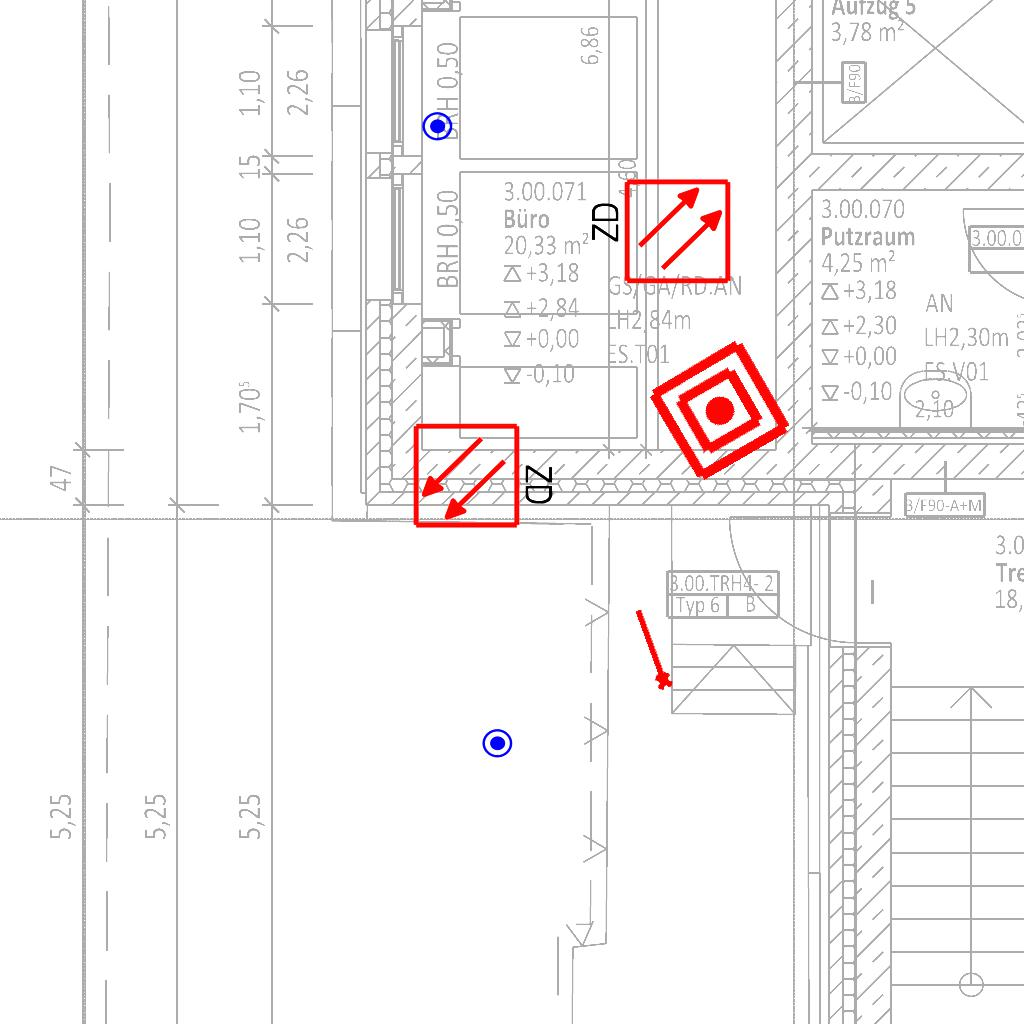ASR_Ansaugoeffnung: (625, 604, 677, 695)
NAM-Nichtautomatischer_Melder: (642, 333, 797, 488)
Taster: (481, 728, 514, 761), (421, 111, 454, 144)
ZD_Melder_in_Zwischendecke_mit_Revisionsoeffnung_mind_40_x_40_cm: (411, 417, 560, 531), (584, 176, 733, 290)
